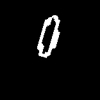chain: (37, 15, 59, 57)
